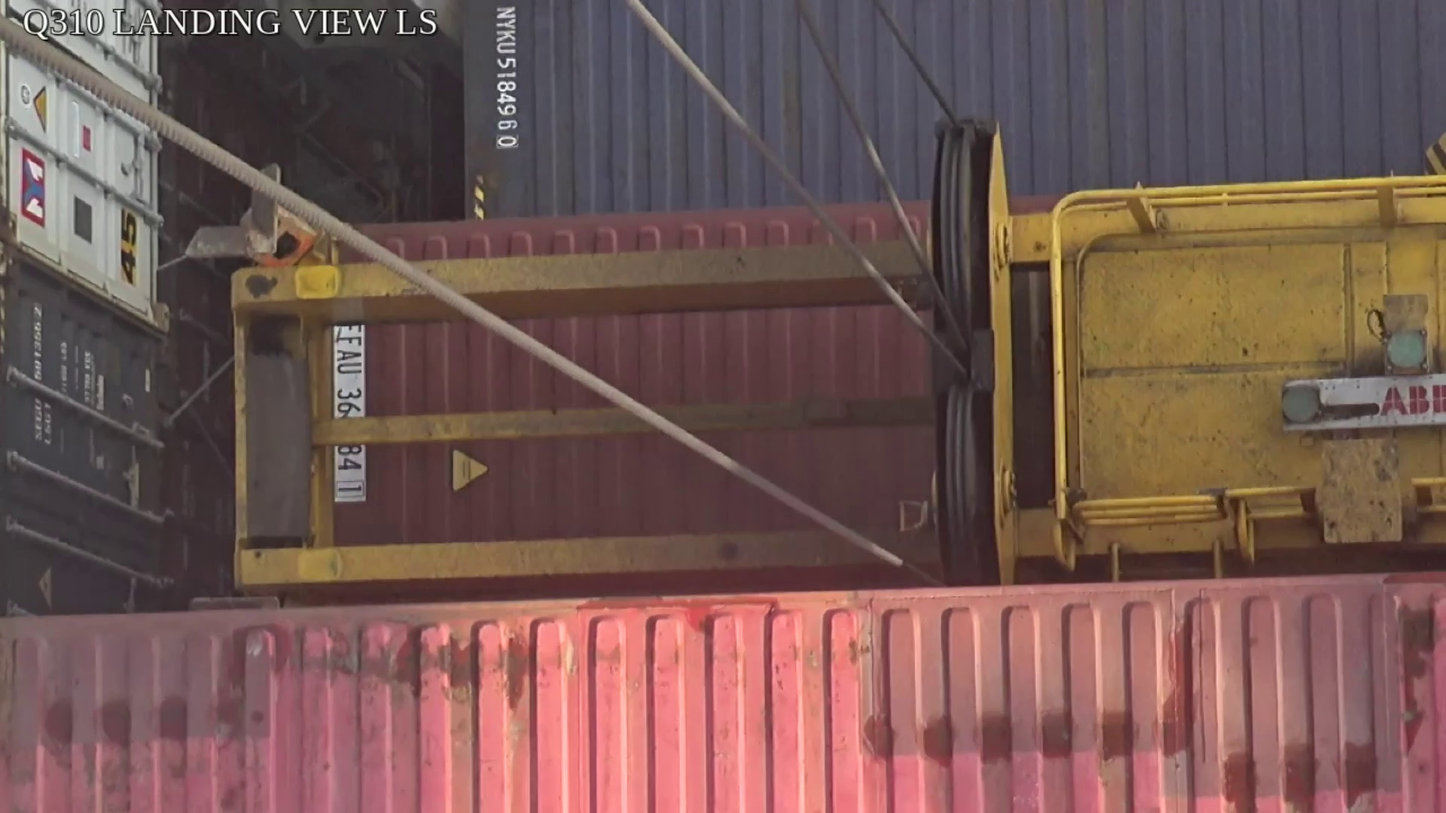aa: (931, 120, 1020, 582)
